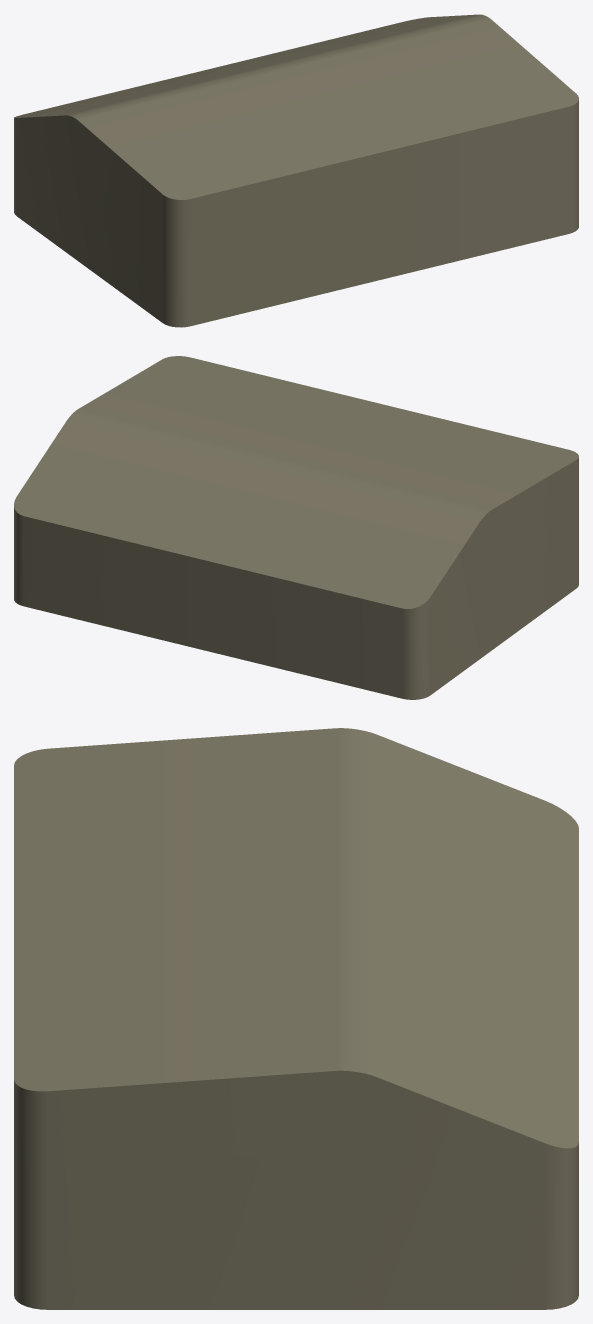
Rendered from mouse_button.glb.
3 renders of one model, top to bottom at view 1: azimuth 30°, elevation 25°; view 2: azimuth 150°, elevation 25°; view 3: azimuth 270°, elevation 25°, orthographic. The views are drawn at different scales.
Visible parts, largest first — view 1: Mouse_Darkplastic_0.001; view 2: Mouse_Darkplastic_0.001; view 3: Mouse_Darkplastic_0.001.
Part boxes in pixels (bbox=[...]): Mouse_Darkplastic_0.001: bbox=[14, 14, 578, 327]; Mouse_Darkplastic_0.001: bbox=[14, 356, 578, 699]; Mouse_Darkplastic_0.001: bbox=[14, 728, 578, 1309].
Bounding box in the file's own units: 3.82 × 1.24 × 2.66.
1 material, 1 textured.
